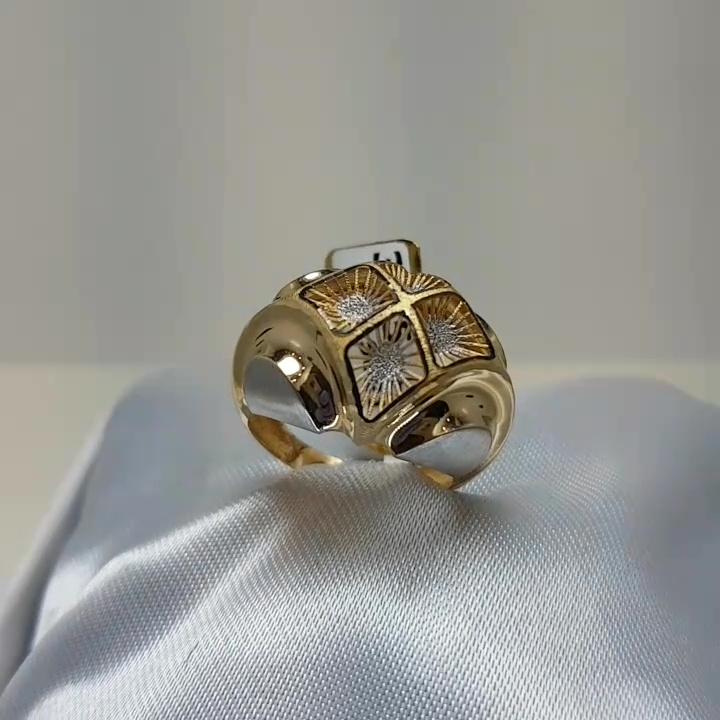Ring 2: (213, 250, 533, 509)
